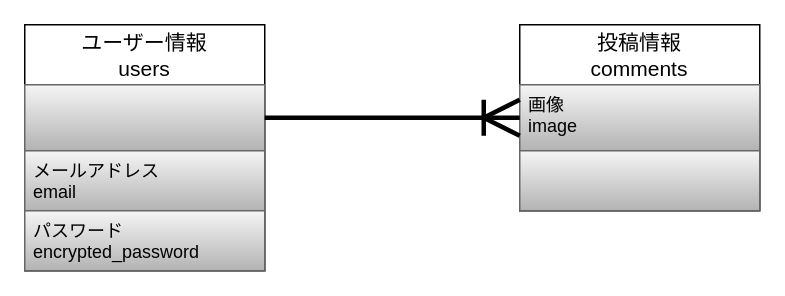
Some shapes in this 785 by 296 pixel diagram are drawn without their labels. The centre of each missing label's shape, as x and y in pixels:
コメント comment: (639,180)
登録者名 name: (144,117)
